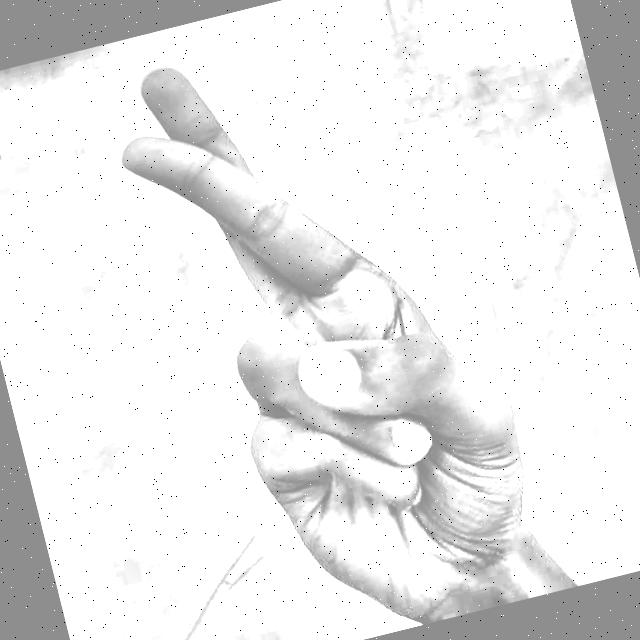Ra: (67, 0, 559, 640)
